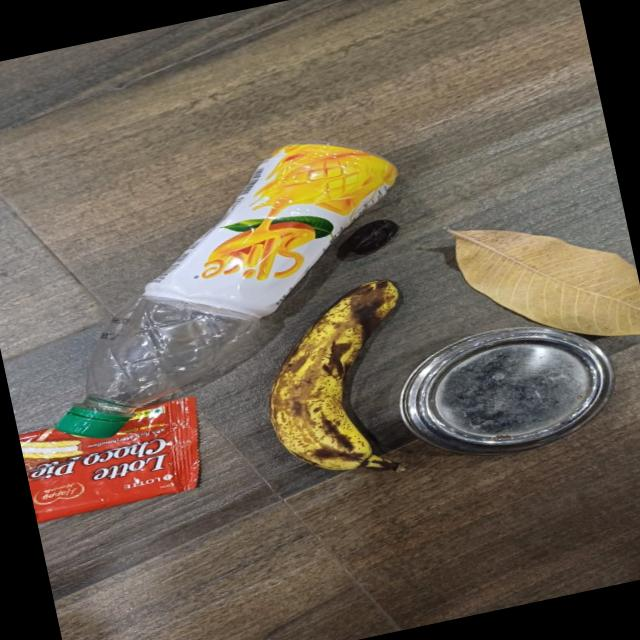Banana-Bio: (236, 269, 452, 496)
Date-Bio: (326, 217, 408, 264)
Leaf-Bio: (436, 187, 640, 373)
Plastic-NonBio: (2, 114, 438, 444), (16, 391, 218, 524)
Steel-NonBio: (380, 302, 636, 478)
